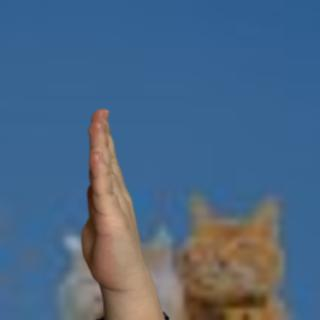RIGHT: (76, 104, 156, 295)
